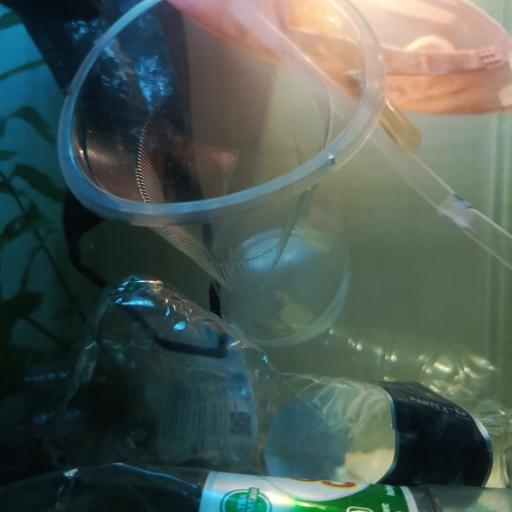mask: (1, 0, 232, 357), (169, 0, 512, 117)
plastic_bottle: (42, 276, 512, 503), (26, 329, 286, 468), (0, 463, 512, 512)
plastic_cup: (59, 0, 386, 344)
plastic_straw: (229, 0, 512, 264)
